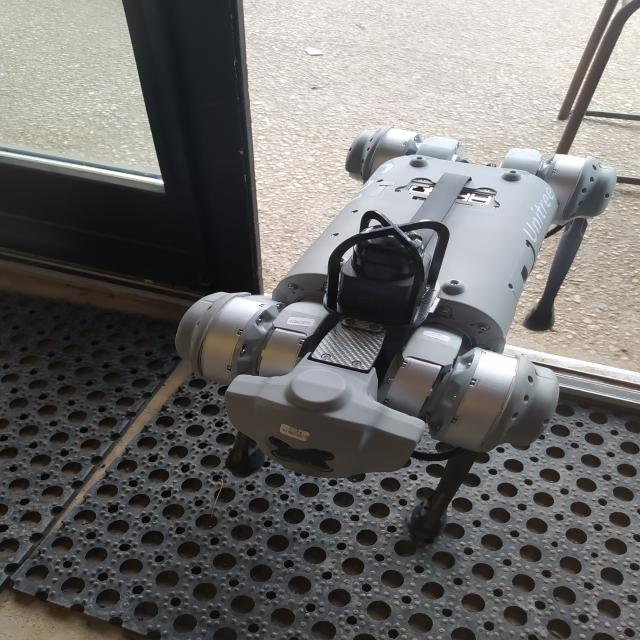unitree-go1-robot: (161, 113, 620, 554)
